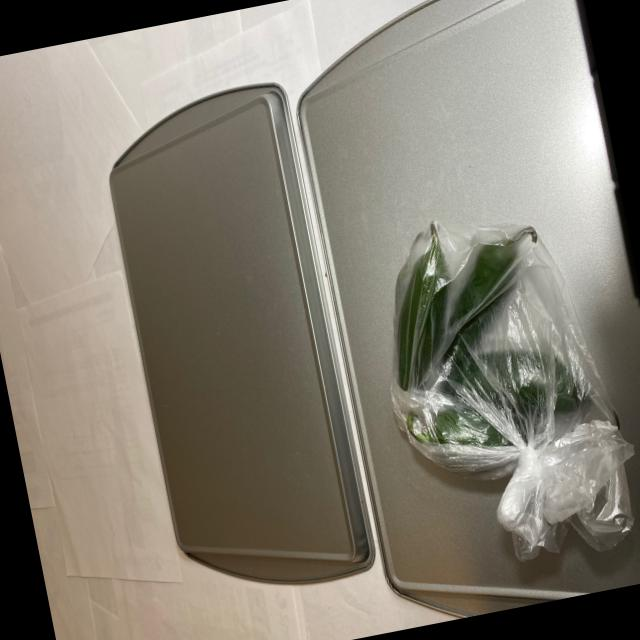chilli: (362, 195, 630, 498)
